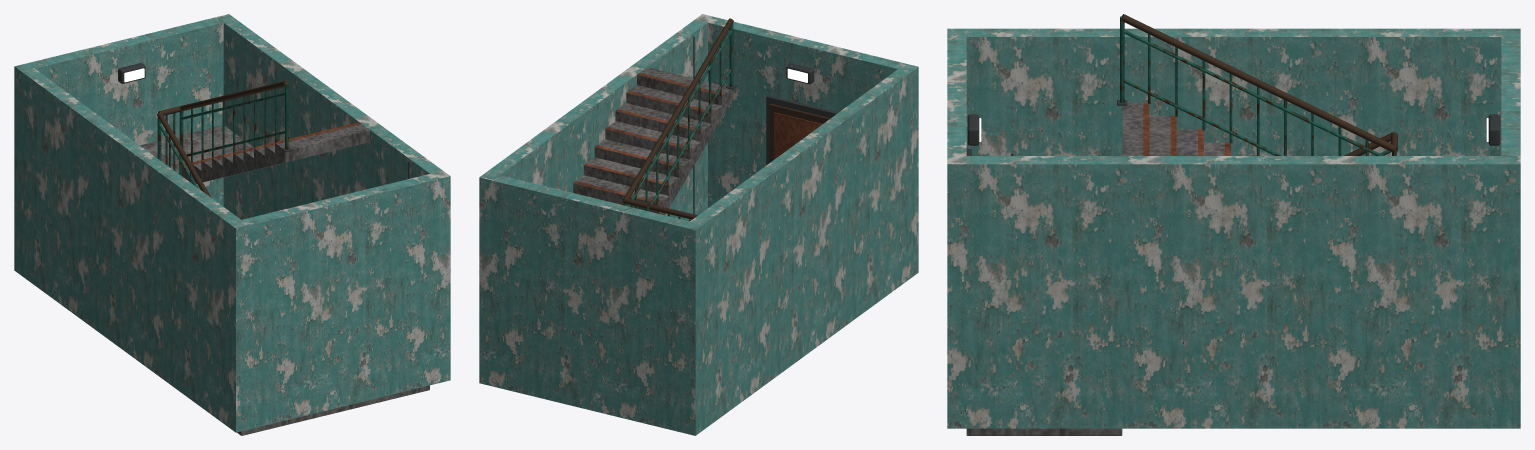
File: stairwell_module.glb
The picture shows the model from 3 angles, left to right: view 1: azimuth 30°, elevation 25°; view 2: azimuth 150°, elevation 25°; view 3: azimuth 270°, elevation 25°; orthographic projection. The views are drawn at different scales.
Visible parts, largest first — view 1: Wall_Left, Wall_Front, Wall_Right, Wall_Rear, Flight_B, HalfLanding, FloorLanding, Rail_1_0.98, Rail_0_0.98; view 2: Wall_Left, Wall_Rear, Wall_Front, Wall_Right, Flight_B, Rail_1_0.98, DoorInset, DoorFrame, ClosedDoor, Rail_1_0.83, Rail_1_0.27; view 3: Wall_Right, Wall_Left, Flight_B, Wall_Rear, Wall_Front, Rail_1_0.98, FloorLanding, Rail_1_0.83, Rail_1_0.27.
Part boxes in pixels (x1=…): Wall_Left: x1=14, y1=63, x2=248, y2=432; Wall_Front: x1=242, y1=174, x2=437, y2=429; Wall_Right: x1=216, y1=14, x2=450, y2=383; Wall_Rear: x1=27, y1=17, x2=223, y2=206; Flight_B: x1=181, y1=124, x2=369, y2=183; HalfLanding: x1=140, y1=125, x2=253, y2=172; FloorLanding: x1=237, y1=385, x2=429, y2=435; Rail_1_0.98: x1=180, y1=80, x2=289, y2=111; Rail_0_0.98: x1=157, y1=112, x2=211, y2=197; Wall_Left: x1=682, y1=63, x2=918, y2=435; Wall_Rear: x1=492, y1=175, x2=689, y2=432; Wall_Front: x1=708, y1=17, x2=905, y2=207; Wall_Right: x1=479, y1=14, x2=715, y2=386; Flight_B: x1=573, y1=67, x2=732, y2=215; Rail_1_0.98: x1=623, y1=18, x2=733, y2=200; DoorInset: x1=774, y1=112, x2=822, y2=159; DoorFrame: x1=766, y1=95, x2=837, y2=165; ClosedDoor: x1=769, y1=104, x2=830, y2=162; Rail_1_0.83: x1=627, y1=30, x2=731, y2=206; Rail_1_0.27: x1=649, y1=69, x2=731, y2=210; Wall_Right: x1=947, y1=156, x2=1520, y2=428; Wall_Left: x1=947, y1=28, x2=1520, y2=155; Flight_B: x1=1122, y1=103, x2=1251, y2=155; Wall_Rear: x1=1501, y1=37, x2=1520, y2=155; Wall_Front: x1=947, y1=37, x2=966, y2=155; Rail_1_0.98: x1=1121, y1=14, x2=1395, y2=152; FloorLanding: x1=966, y1=428, x2=1122, y2=435; Rail_1_0.83: x1=1123, y1=29, x2=1384, y2=155; Rail_1_0.27: x1=1123, y1=79, x2=1282, y2=155.
Bounding box in the file's own units: 3.3 × 4.19 × 5.9.
8 materials, 5 textured.
